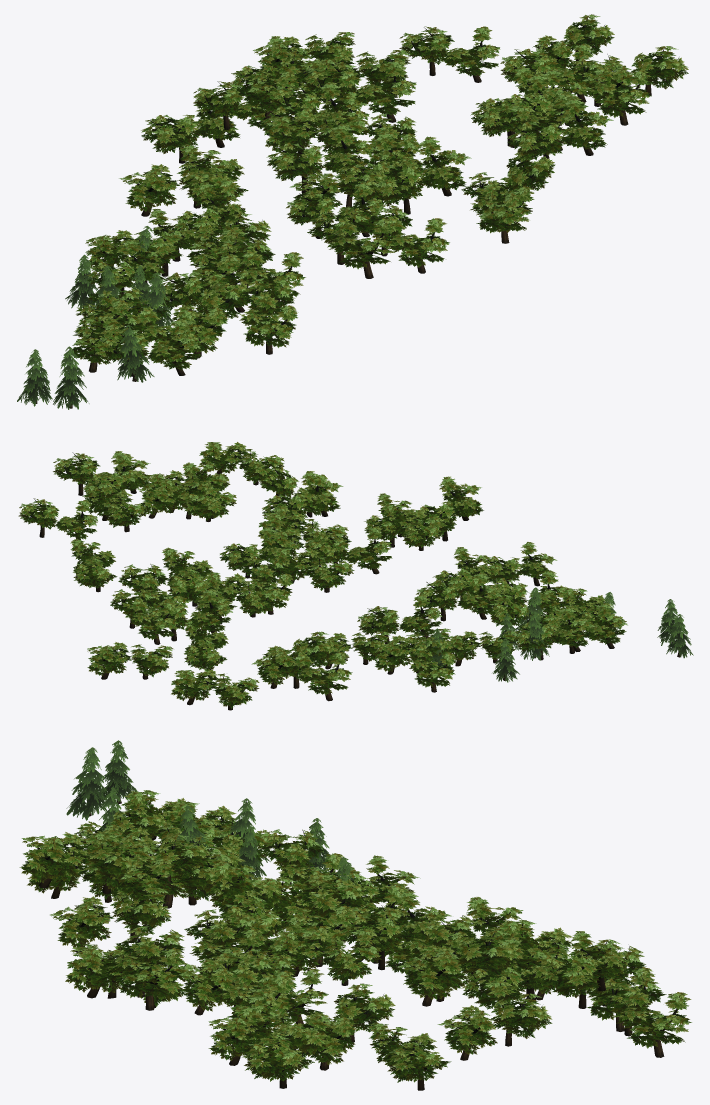
Rendered from Trees_10.fbx.
The picture shows the model from 3 angles, top to bottom: view 1: azimuth 30°, elevation 25°; view 2: azimuth 150°, elevation 25°; view 3: azimuth 270°, elevation 25°; orthographic projection. The views are drawn at different scales.
Visible parts, largest first — view 1: trees10; view 2: trees10; view 3: trees10.
Part boxes in pixels (x1,y1,x2,y2): trees10: [17, 14, 688, 409]; trees10: [18, 442, 693, 710]; trees10: [19, 740, 691, 1090].
Size of the model in its own units: 14828 by 2939 by 10175.
